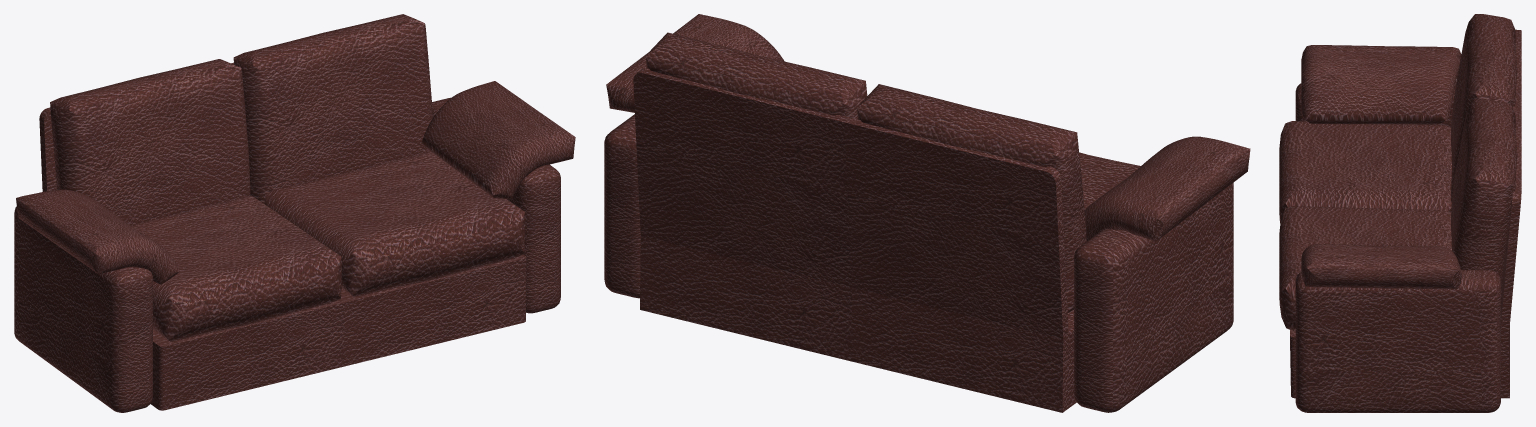
File: Sofa.obj
3 renders of one model, left to right at view 1: azimuth 30°, elevation 25°; view 2: azimuth 150°, elevation 25°; view 3: azimuth 270°, elevation 25°, orthographic. The views are drawn at different scales.
Visible parts, largest first — view 1: Group_1_001, Component_3_001, Group_1_003, Group_3_001, Group_3_002, Group_10_002, Group_2_001, Group_2_003, Group_10_001; view 2: Component_3_001, Group_10_002, Group_1_003, Group_2_003, Group_1_001, Group_10_001, Group_2_001, Group_3_002; view 3: Group_10_001, Group_3_002, Group_2_003, Group_1_001, Group_3_001, Group_2_001, Group_1_003, Component_3_001, Group_10_002.
Part boxes in pixels (<box>): Group_1_001: <box>233,14,432,203</box>; Component_3_001: <box>39,62,526,410</box>; Group_1_003: <box>50,59,250,225</box>; Group_3_001: <box>264,152,525,297</box>; Group_3_002: <box>130,195,341,342</box>; Group_10_002: <box>14,206,152,412</box>; Group_2_001: <box>421,81,575,199</box>; Group_2_003: <box>16,189,179,284</box>; Group_10_001: <box>432,97,560,313</box>; Component_3_001: <box>633,68,1076,412</box>; Group_10_002: <box>1074,182,1233,412</box>; Group_1_003: <box>857,84,1086,312</box>; Group_2_003: <box>1084,136,1250,241</box>; Group_1_001: <box>645,32,867,119</box>; Group_10_001: <box>604,114,640,298</box>; Group_2_001: <box>606,14,784,112</box>; Group_3_002: <box>1079,152,1140,209</box>; Group_10_001: <box>1295,270,1500,412</box>; Group_3_002: <box>1279,121,1451,222</box>; Group_2_003: <box>1301,45,1461,124</box>; Group_1_001: <box>1451,99,1517,304</box>; Group_3_001: <box>1279,206,1451,330</box>; Group_2_001: <box>1301,244,1461,289</box>; Group_1_003: <box>1451,14,1517,202</box>; Component_3_001: <box>1290,29,1521,398</box>; Group_10_002: <box>1295,81,1456,127</box>.
Bounding box in the file's own units: 105 × 47.93 × 47.81.
